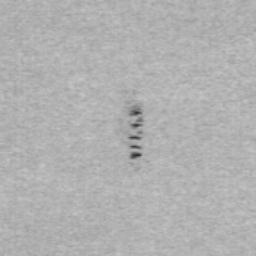Secondary rust skin: (128, 105, 143, 160)
